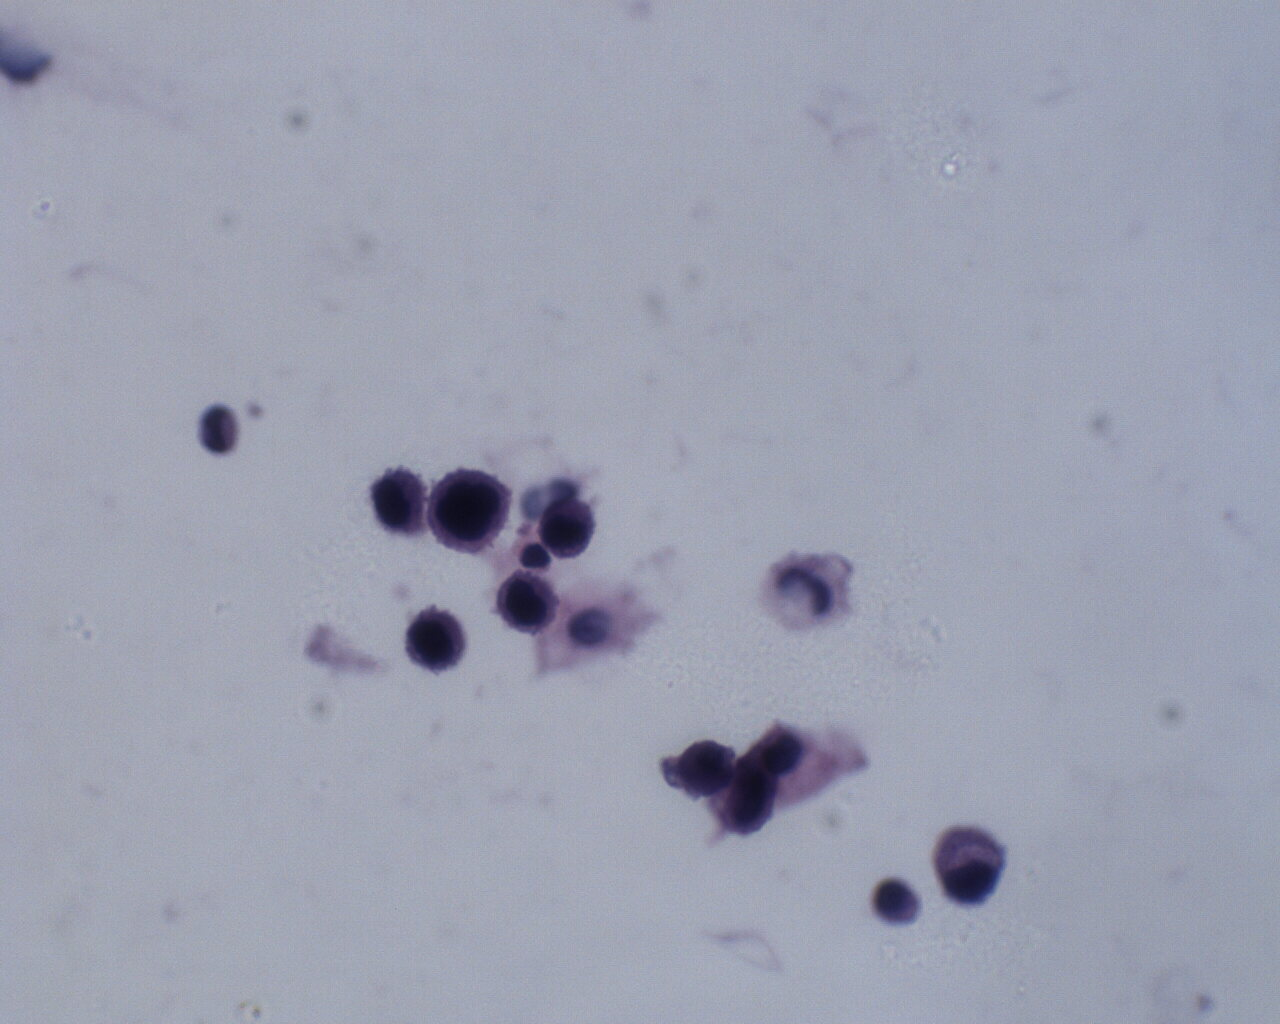ab: (425, 463, 517, 562), (366, 461, 434, 542), (495, 568, 559, 639), (403, 606, 466, 675), (538, 492, 598, 560)
histo: (932, 824, 1009, 908)
